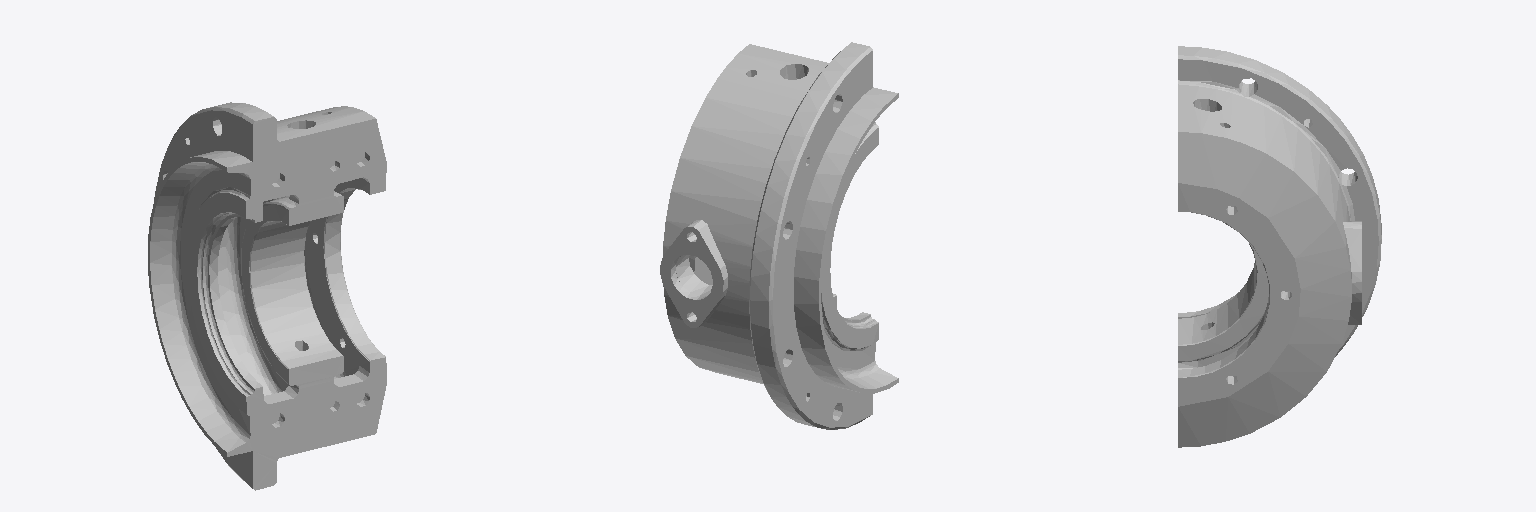
Rendered from bearing housing.obj.
3 renders of one model, left to right at view 1: azimuth 30°, elevation 25°; view 2: azimuth 150°, elevation 25°; view 3: azimuth 270°, elevation 25°, orthographic.
Visible parts, largest first — view 1: imagetostl_mesh0; view 2: imagetostl_mesh0; view 3: imagetostl_mesh0.
Part boxes in pixels (x1,y1,x2,y2): imagetostl_mesh0: (148, 102, 386, 490); imagetostl_mesh0: (660, 42, 898, 429); imagetostl_mesh0: (1178, 46, 1381, 447).
Bounding box in the file's own units: 188 × 415 × 208.